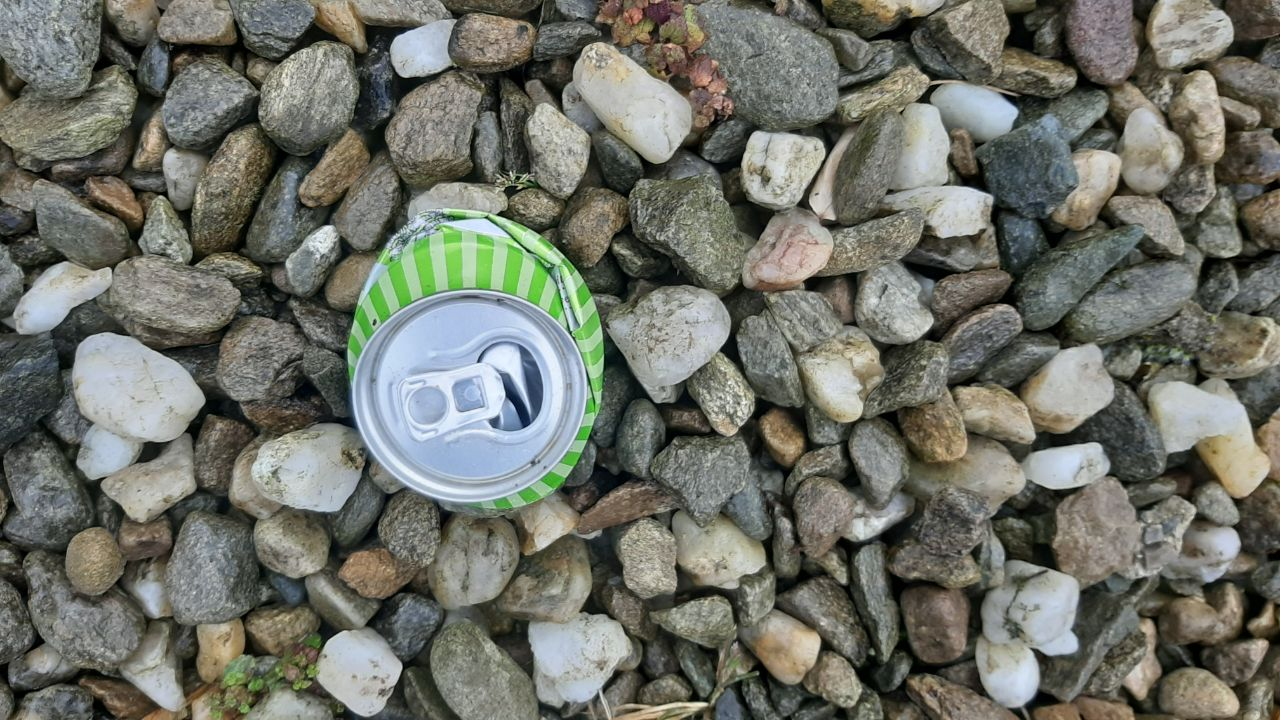Can: (346, 207, 605, 513)
